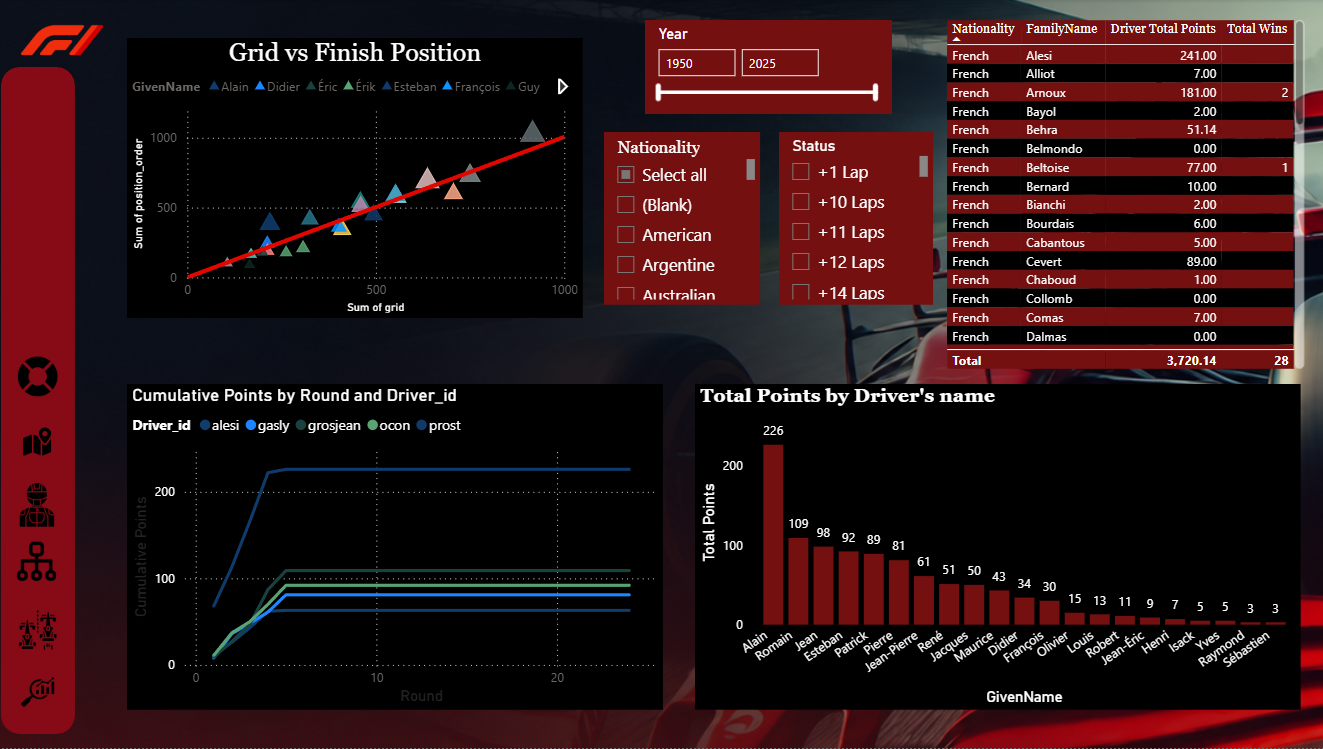

What the dashboard file says about the page in this screenshot:
{"tool":"powerbi","page":{"name":"Drivers","canvas":[1280,720],"ordinal":2},"visuals":[{"type":"clusteredColumnChart","title":"Total Points by Driver''s name","fields":{"Category":["drivers.GivenName"],"Y":["results.Total Points"]},"box":[670.8,370,582.3,313.3],"z":0},{"type":"shape","box":[3.8,65.3,71.1,641],"z":1000},{"type":"scatterChart","title":"Grid vs Finish Position","fields":{"X":["Sum(results.grid)"],"Series":["drivers.GivenName"],"Y":["Sum(results.position_order)"],"Size":["results.Total Results"]},"box":[124.9,37.5,438.2,269.1],"z":2000},{"type":"group","id":"g1","title":"Group 2","box":[10.7,339.3,57.4,350.3],"z":3000},{"type":"tableEx","fields":{"Values":["drivers.Nationality","drivers.FamilyName","driver_standings.Driver Total Points","results.Total Wins"]},"box":[907.1,15.4,353.6,345],"z":4000},{"type":"image","box":[0,0,124.9,78.8],"z":5000},{"type":"slicer","fields":{"Values":["races.Date.Variation.Date Hierarchy.Year"]},"box":[622.7,20.2,237.4,90.3],"z":6000},{"type":"slicer","fields":{"Values":["drivers.Nationality"]},"box":[583.3,127.8,149.9,166.2],"z":7000},{"type":"lineChart","fields":{"Category":["races.Round"],"Y":["results.Cumulative Points"],"Series":["drivers.Driver_id"]},"box":[124.9,370,515.1,313.3],"z":8000},{"type":"image","box":[25.1,397.7,27.4,54.5],"z":8000,"group":"g1"},{"type":"slicer","fields":{"Values":["results.Status"]},"box":[751.5,127.8,148,166.2],"z":9000},{"type":"image","box":[15.5,464.8,46.5,41.8],"z":9000,"group":"g1"},{"type":"image","box":[20.3,583.5,37.6,45.7],"z":10000,"group":"g1"},{"type":"image","box":[12.1,521.2,52.6,38.9],"z":11000,"group":"g1"},{"type":"image","box":[22.3,641.9,33.5,47.7],"z":12000,"group":"g1"},{"type":"image","box":[10.7,339.3,57.4,46.7],"z":14000,"group":"g1"}]}

Visuals, with their boxes on the page's 1280x720 design canvas (x1, y1, x2, y2). These are canvas units, not pixel positions in the 1323x749 screenshot, which may show the page scaled, cropped or inside an application window:
"Total Points by Driver''s name" clusteredColumnChart: <bbox>671, 370, 1253, 683</bbox>
shape: <bbox>4, 65, 75, 706</bbox>
"Grid vs Finish Position" scatterChart: <bbox>125, 38, 563, 307</bbox>
"Group 2" group: <bbox>11, 339, 68, 690</bbox>
tableEx - drivers.Nationality x drivers.FamilyName: <bbox>907, 15, 1261, 360</bbox>
image: <bbox>0, 0, 125, 79</bbox>
slicer - races.Date.Variation.Date Hierarchy.Year: <bbox>623, 20, 860, 110</bbox>
slicer - drivers.Nationality: <bbox>583, 128, 733, 294</bbox>
lineChart - races.Round x results.Cumulative Points: <bbox>125, 370, 640, 683</bbox>
image: <bbox>25, 398, 52, 452</bbox>
slicer - results.Status: <bbox>752, 128, 900, 294</bbox>
image: <bbox>16, 465, 62, 507</bbox>
image: <bbox>20, 584, 58, 629</bbox>
image: <bbox>12, 521, 65, 560</bbox>
image: <bbox>22, 642, 56, 690</bbox>
image: <bbox>11, 339, 68, 386</bbox>
